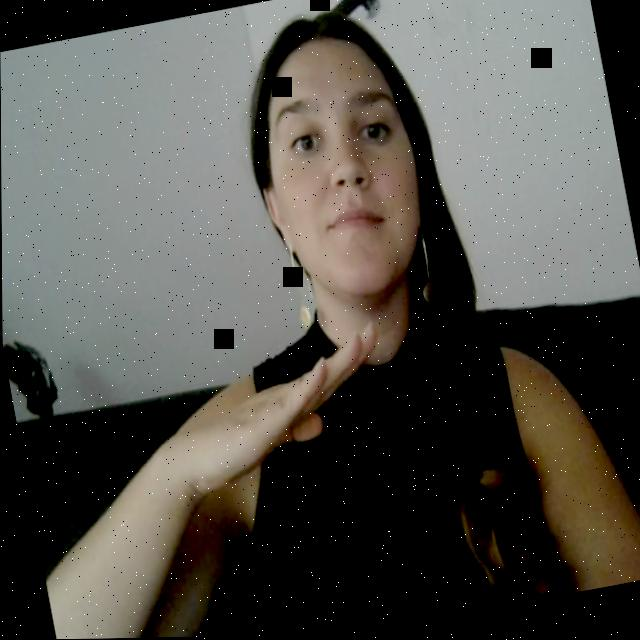Paper: (168, 328, 380, 499)
